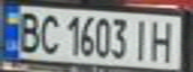0: (93, 13, 112, 60)
1: (60, 12, 81, 56)
3: (109, 15, 133, 61)
6: (78, 12, 96, 57)
B: (12, 8, 42, 54)
C: (36, 10, 63, 55)
H: (148, 17, 181, 63)
I: (127, 16, 154, 62)
